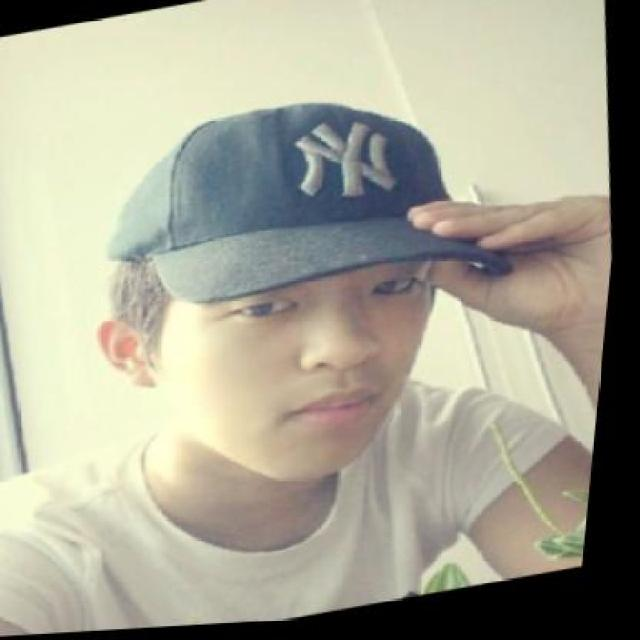hat: (82, 60, 543, 355)
